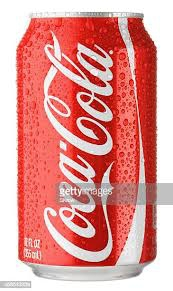can: (14, 10, 156, 283)
